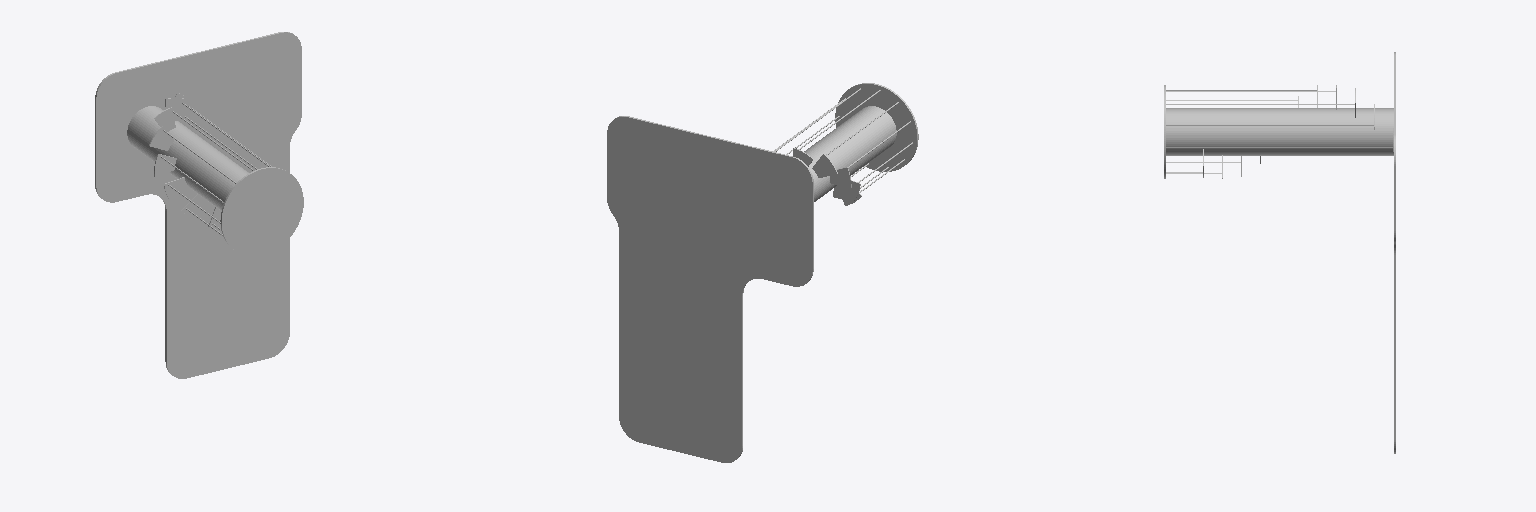
File: sketch-0.obj
3 renders of one model, left to right at view 1: azimuth 30°, elevation 25°; view 2: azimuth 150°, elevation 25°; view 3: azimuth 270°, elevation 25°, orthographic.
Visible parts, largest first — view 1: sketch-0; view 2: sketch-0; view 3: sketch-0.
Boxes of the visible parts, <box> form: sketch-0: <box>95,32,303,378</box>; sketch-0: <box>607,83,918,462</box>; sketch-0: <box>1164,52,1395,453</box>.
Bounding box in the file's own units: 2540 × 3810 × 2489.